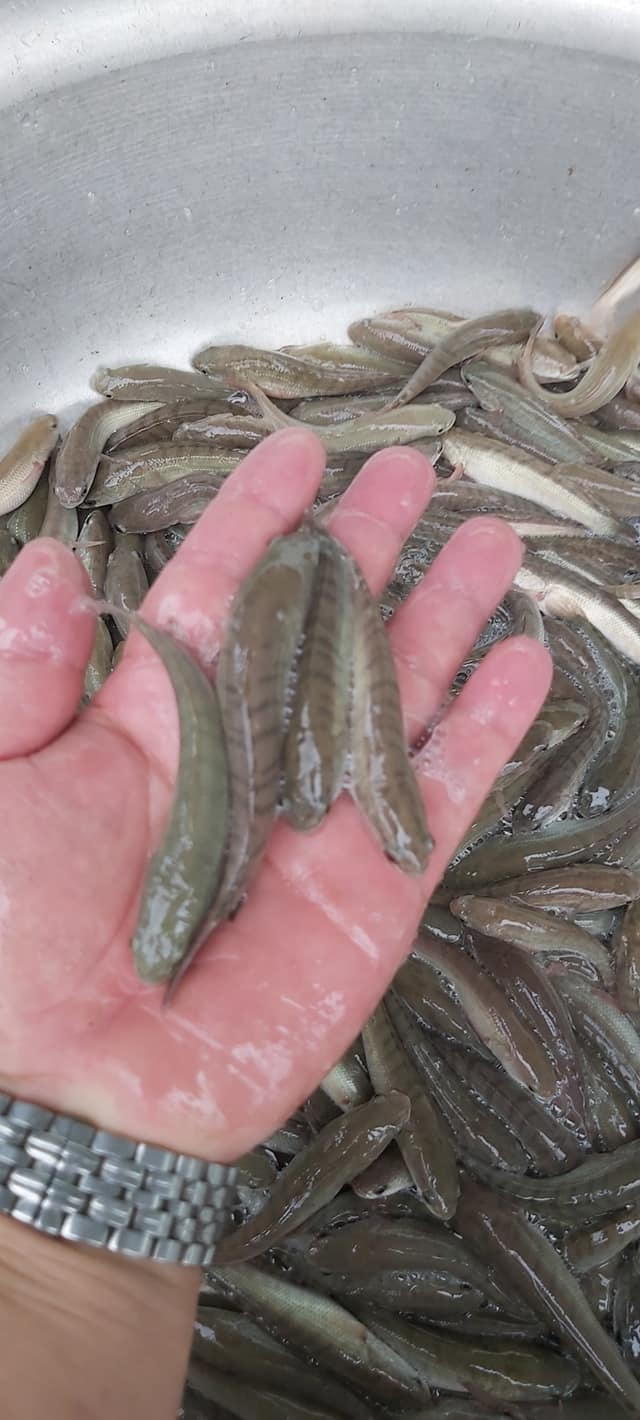fish: (218, 529, 281, 904), (353, 596, 425, 892), (148, 626, 203, 985), (294, 548, 353, 828)
